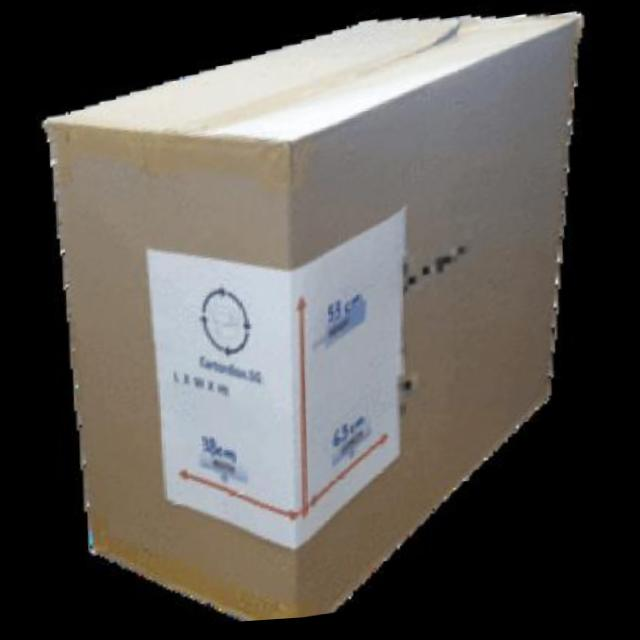box: (1, 0, 639, 638)
